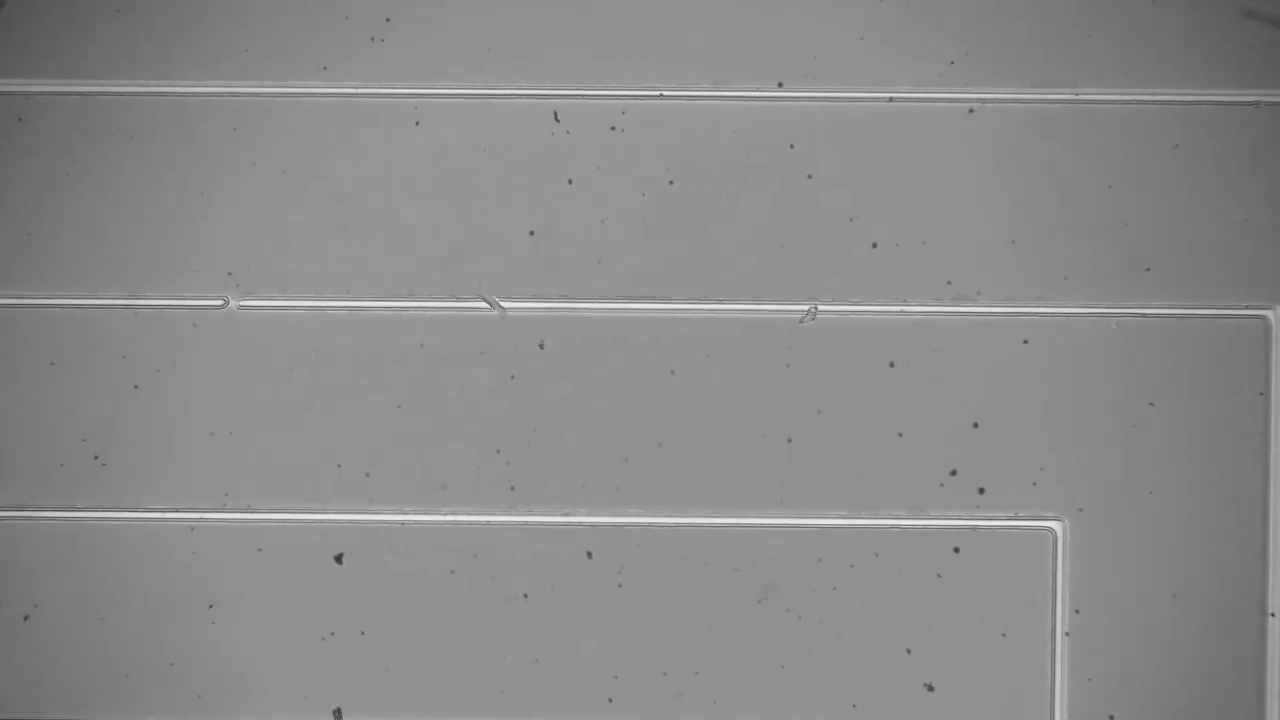open: (465, 276, 517, 327), (208, 282, 249, 320)
stains_enbedded: (786, 292, 835, 335)
